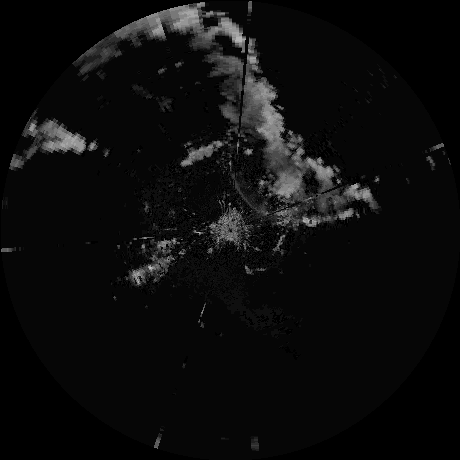frontgust: (228, 154, 272, 217)
